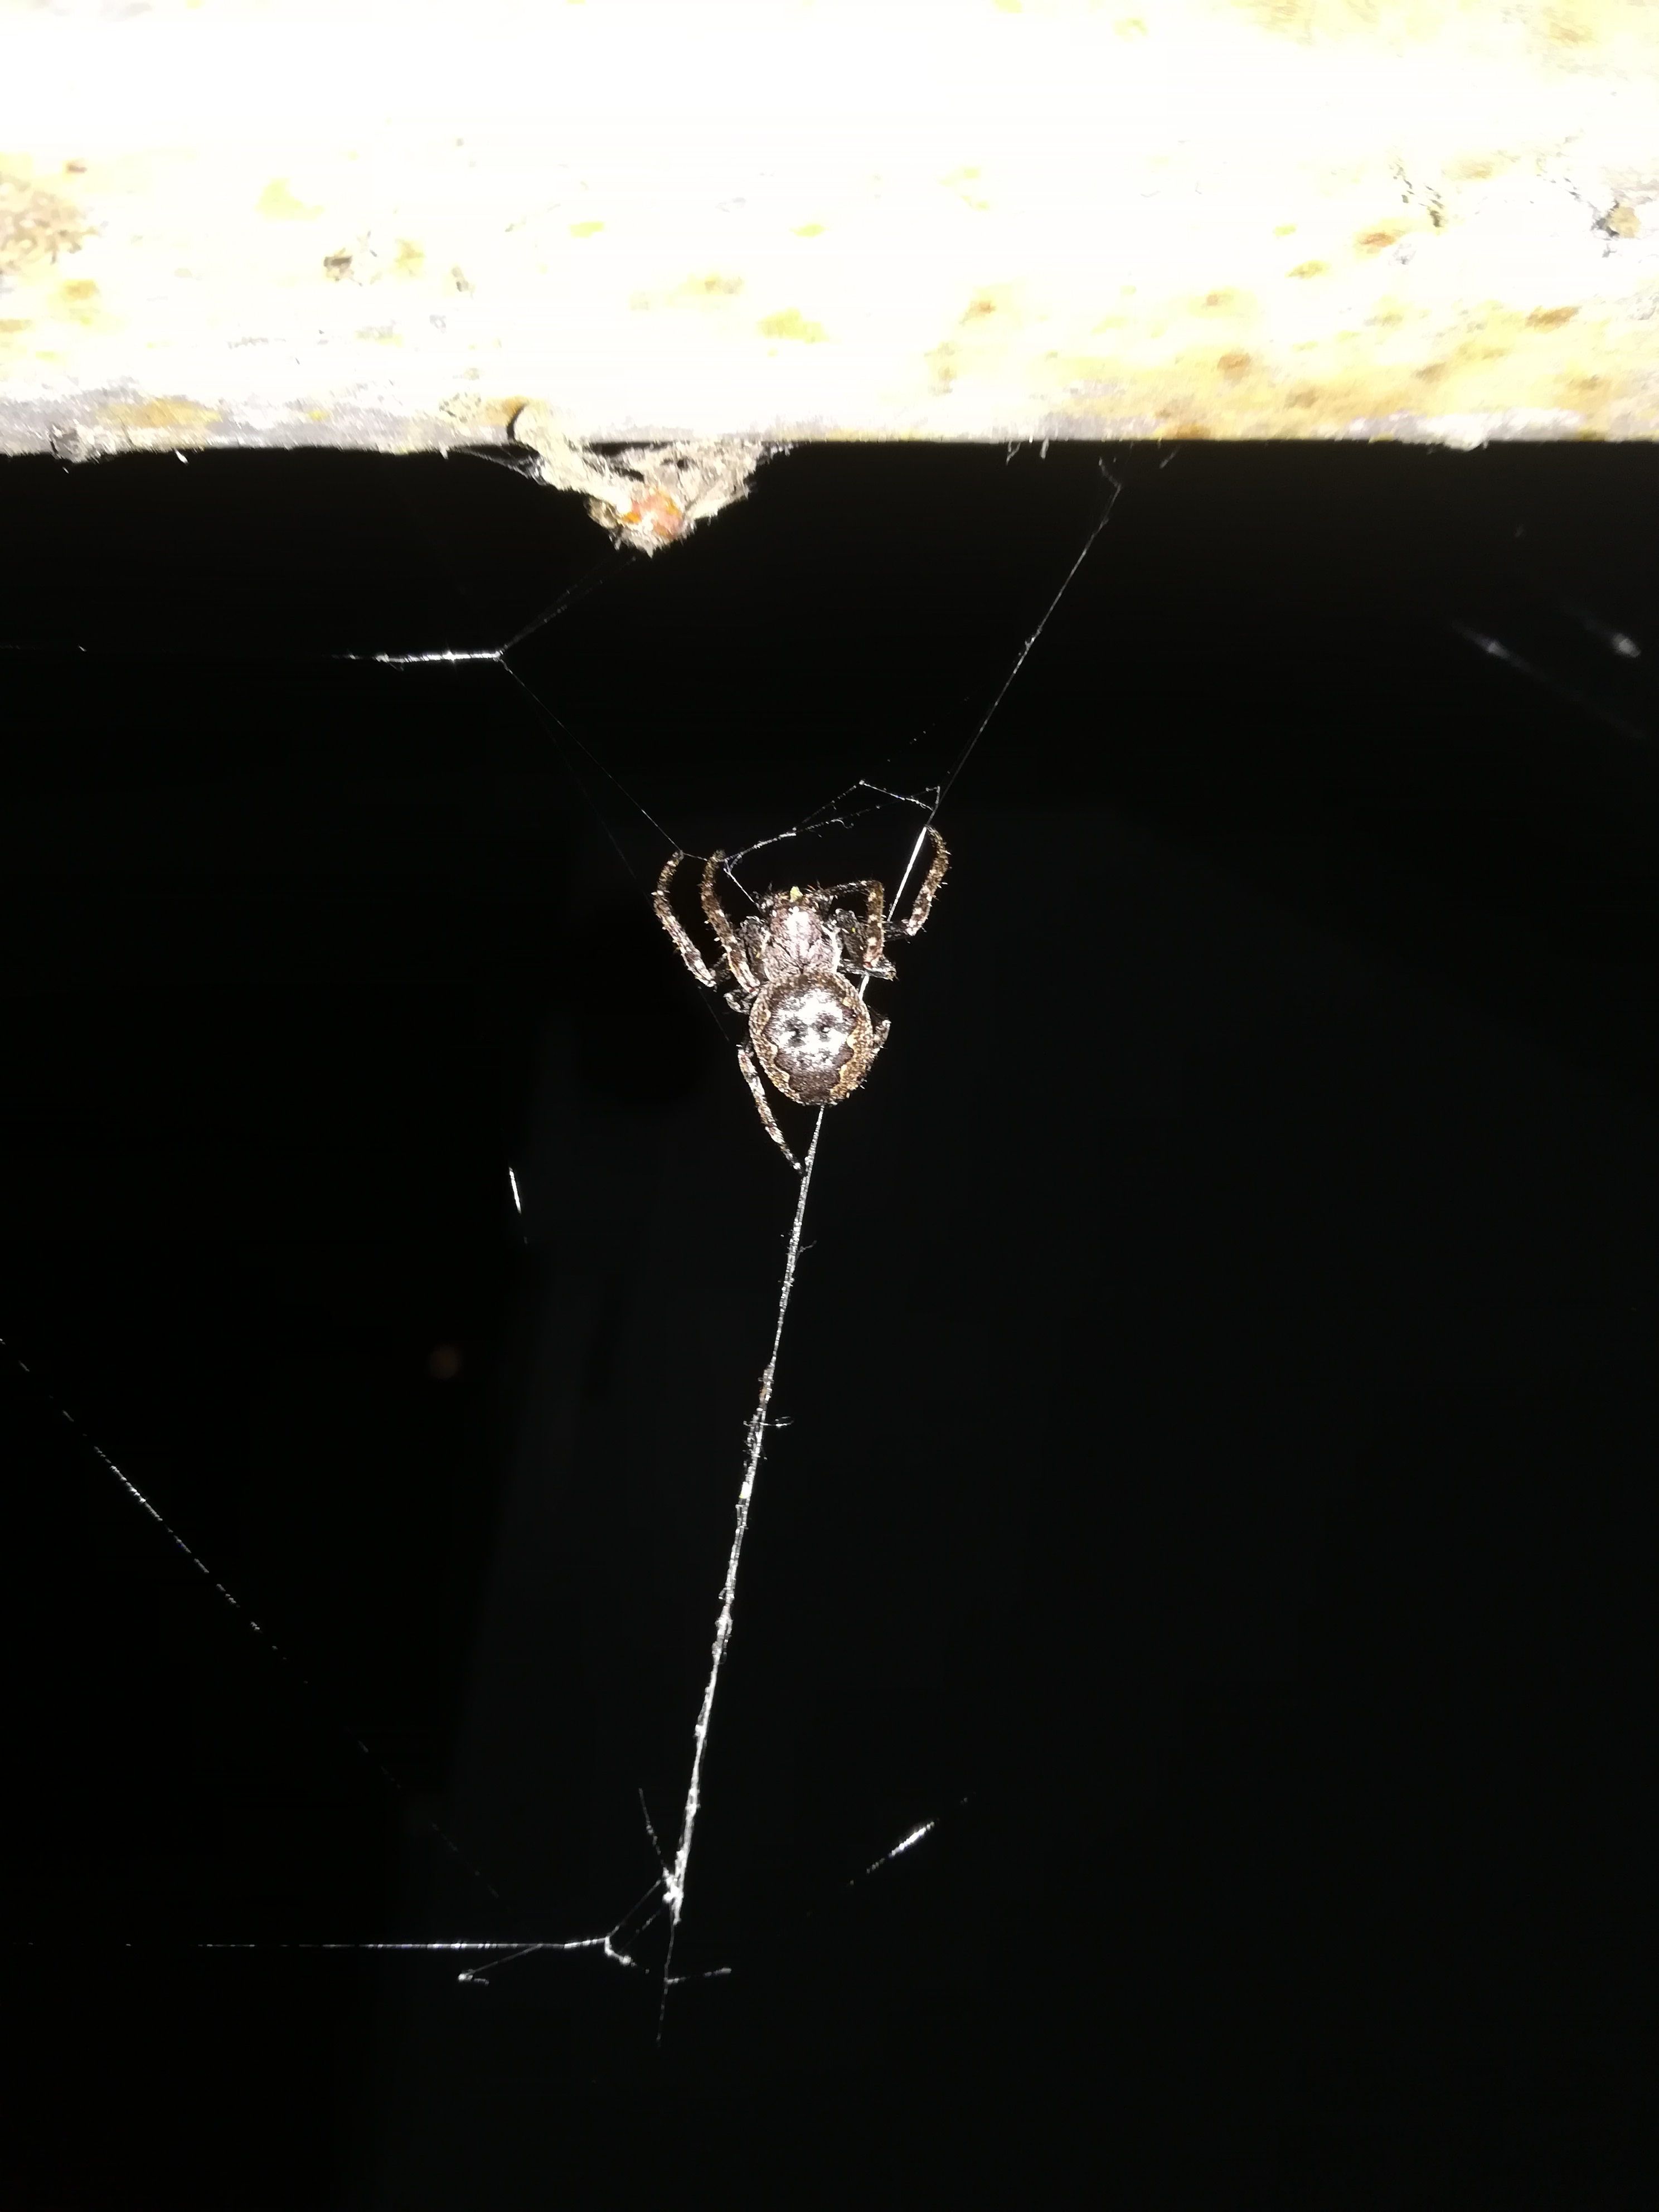spider: (587, 777, 1021, 1200)
